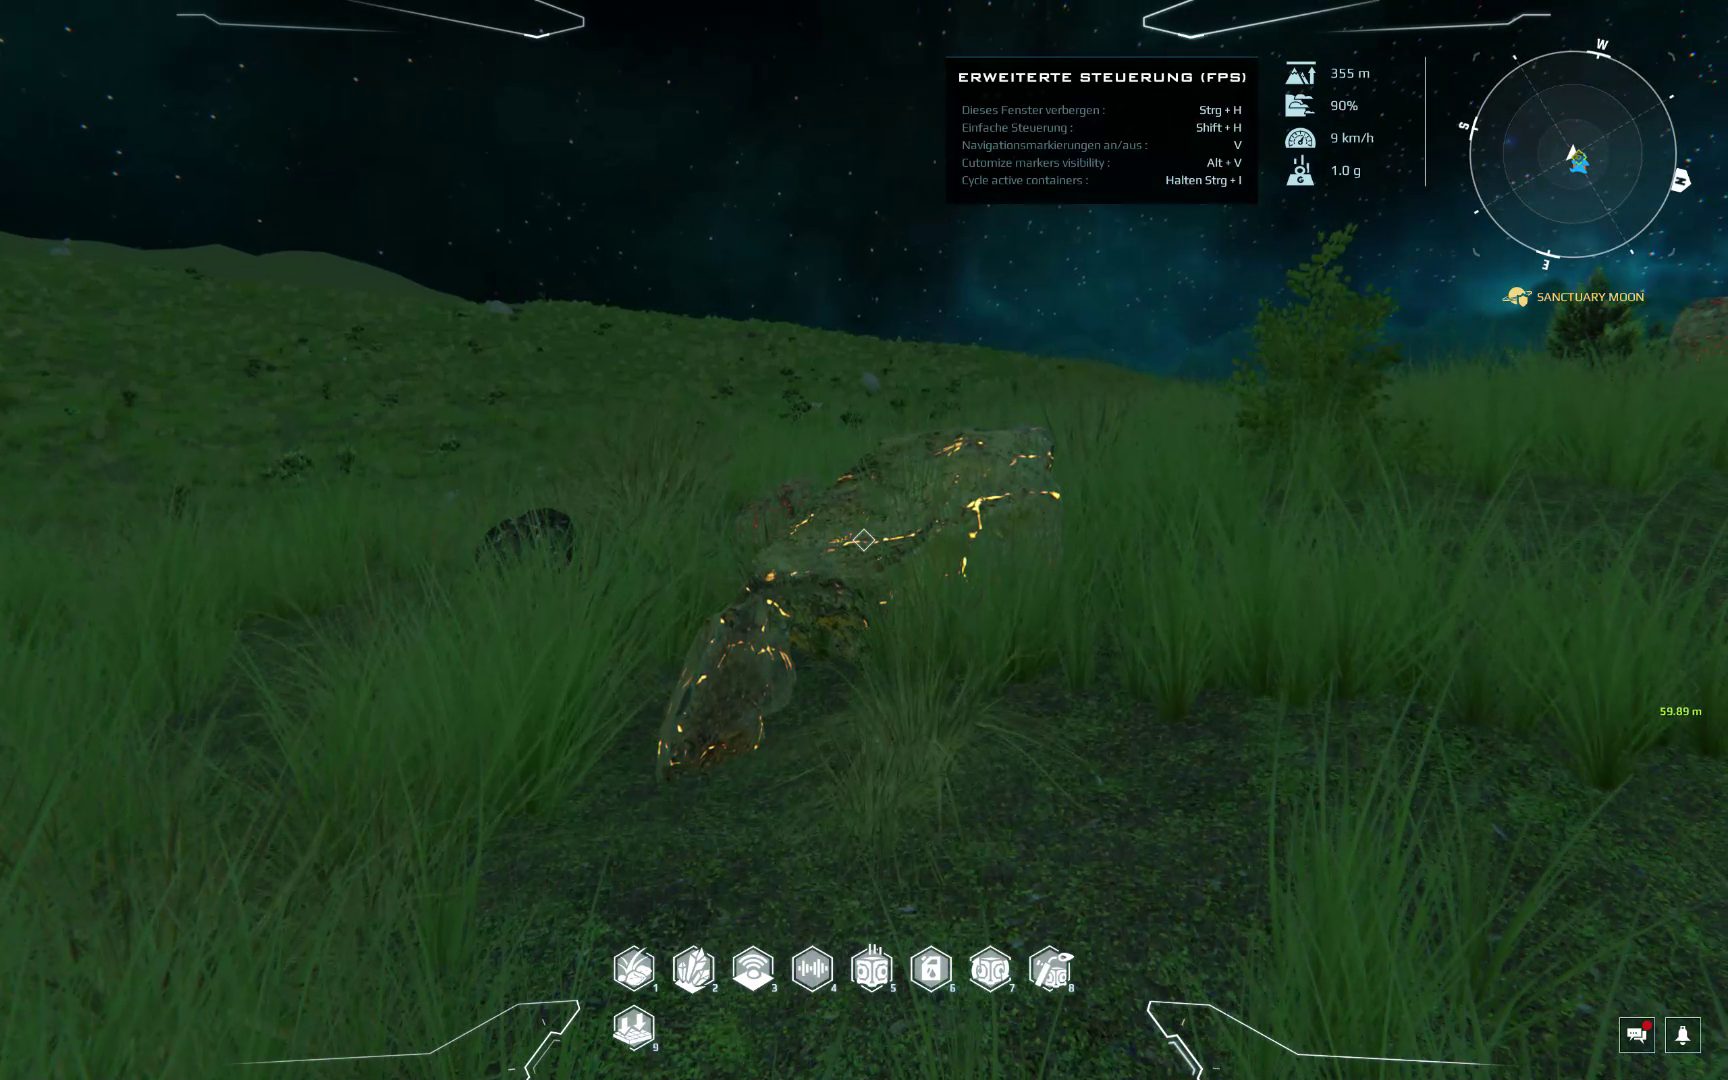Ore: (753, 428, 1062, 597), (653, 592, 802, 786), (728, 482, 829, 564), (468, 503, 577, 576)
